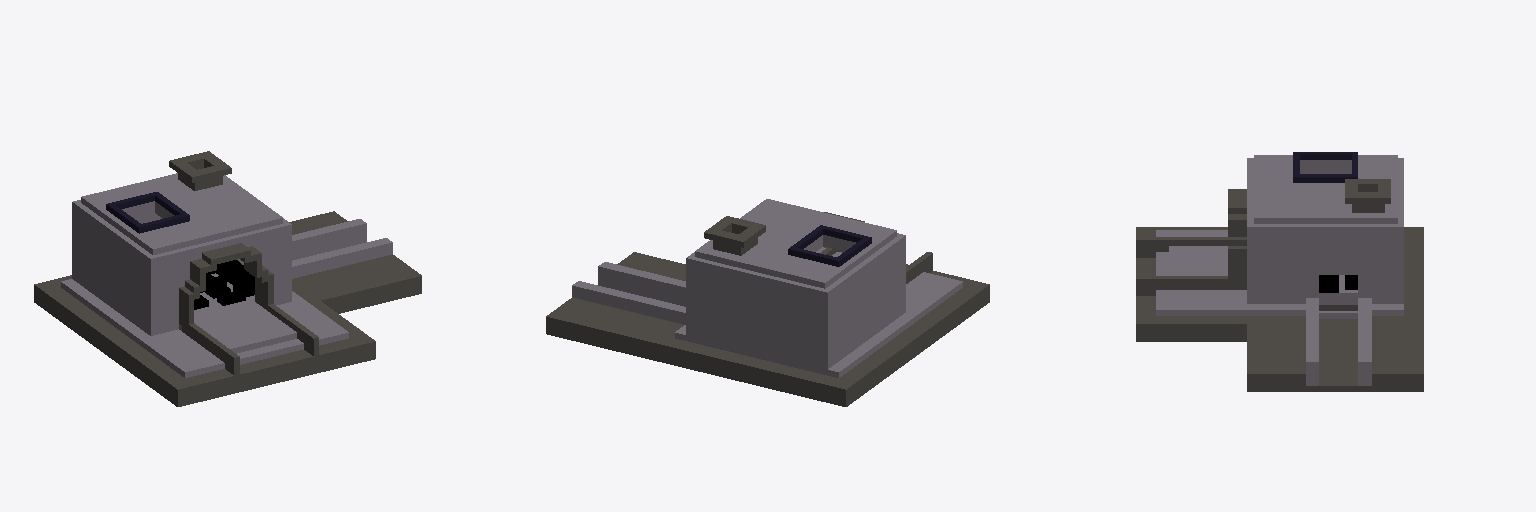
The picture shows the model from 3 angles: view 1: azimuth 30°, elevation 25°; view 2: azimuth 150°, elevation 25°; view 3: azimuth 270°, elevation 25°; orthographic projection.
Parts seen in each view (by area): view 1: object 1; view 2: object 1; view 3: object 1.
Boxes of the visible parts, x1,y1,x2,y2 form: object 1: [34, 151, 421, 406]; object 1: [546, 199, 989, 406]; object 1: [1136, 152, 1423, 391].
Bounding box in the file's own units: 5.3 × 2.1 × 4.4.
Materials: 1 (1 with a texture image).